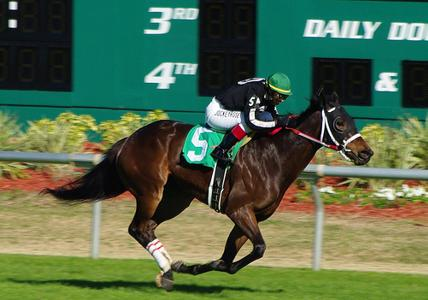person: (206, 74, 294, 165)
